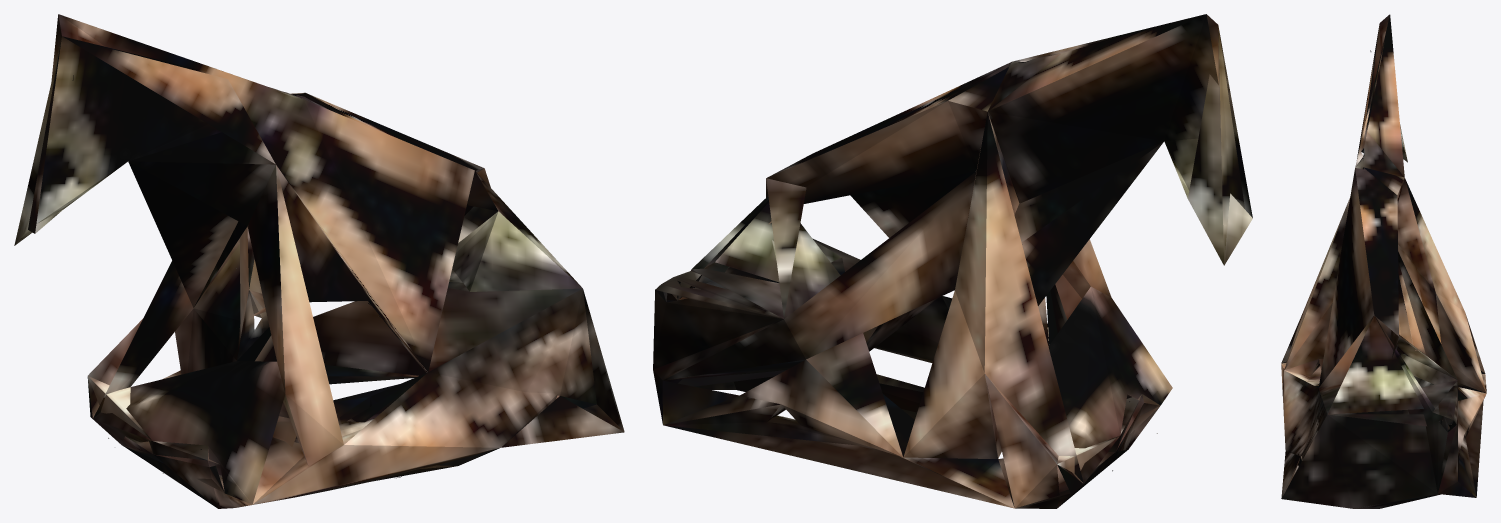
File: ga3_trebuchet_lod2.glb
3 renders of one model, left to right at view 1: azimuth 30°, elevation 25°; view 2: azimuth 150°, elevation 25°; view 3: azimuth 270°, elevation 25°, orthographic. The views are drawn at different scales.
Visible parts, largest first — view 1: ga3_trebuchet_lod2; view 2: ga3_trebuchet_lod2; view 3: ga3_trebuchet_lod2.
Part boxes in pixels (x1,y1,x2,y2): ga3_trebuchet_lod2: (14,14,624,508); ga3_trebuchet_lod2: (653,14,1252,508); ga3_trebuchet_lod2: (1281,14,1486,508).
Bounding box in the file's own units: 11.63 × 10.05 × 5.5.
Materials: 1 (1 with a texture image).
